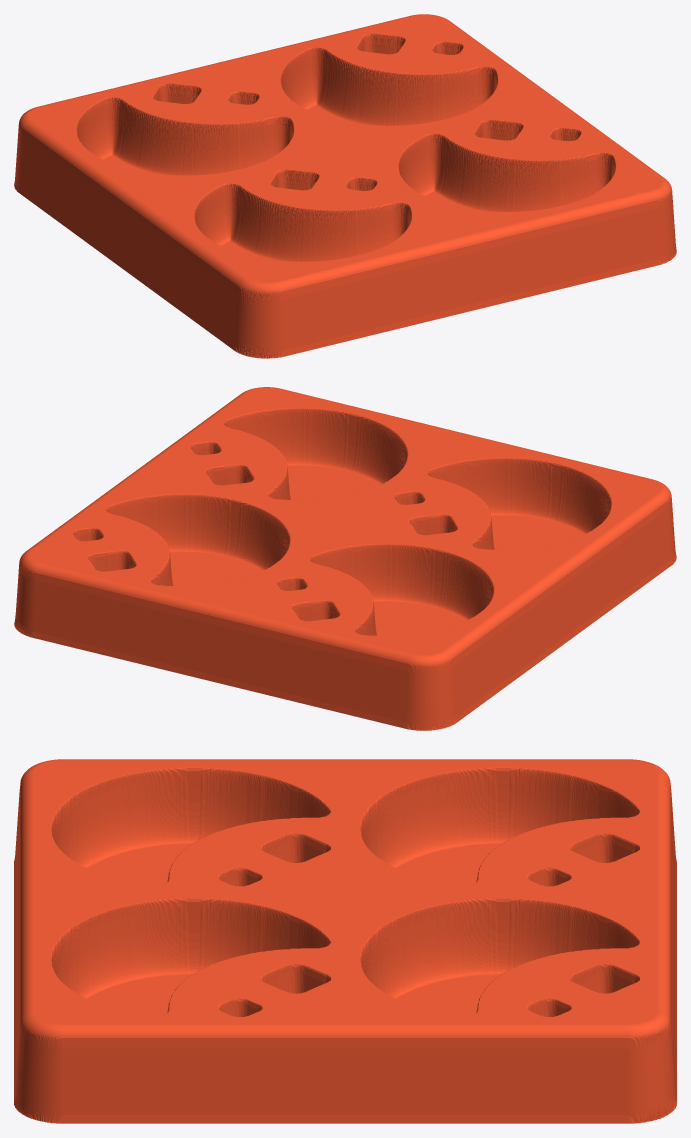
The model's file is mold.glb.
The picture shows the model from 3 angles, top to bottom: view 1: azimuth 30°, elevation 25°; view 2: azimuth 150°, elevation 25°; view 3: azimuth 270°, elevation 25°; orthographic projection. The views are drawn at different scales.
Visible parts, largest first — view 1: geometry_0; view 2: geometry_0; view 3: geometry_0.
Part boxes in pixels (x1,y1,x2,y2): geometry_0: (14,14,676,358); geometry_0: (14,387,676,730); geometry_0: (14,759,676,1123).
Bounding box in the file's own units: 0.1218 × 0.0185 × 0.1218.
